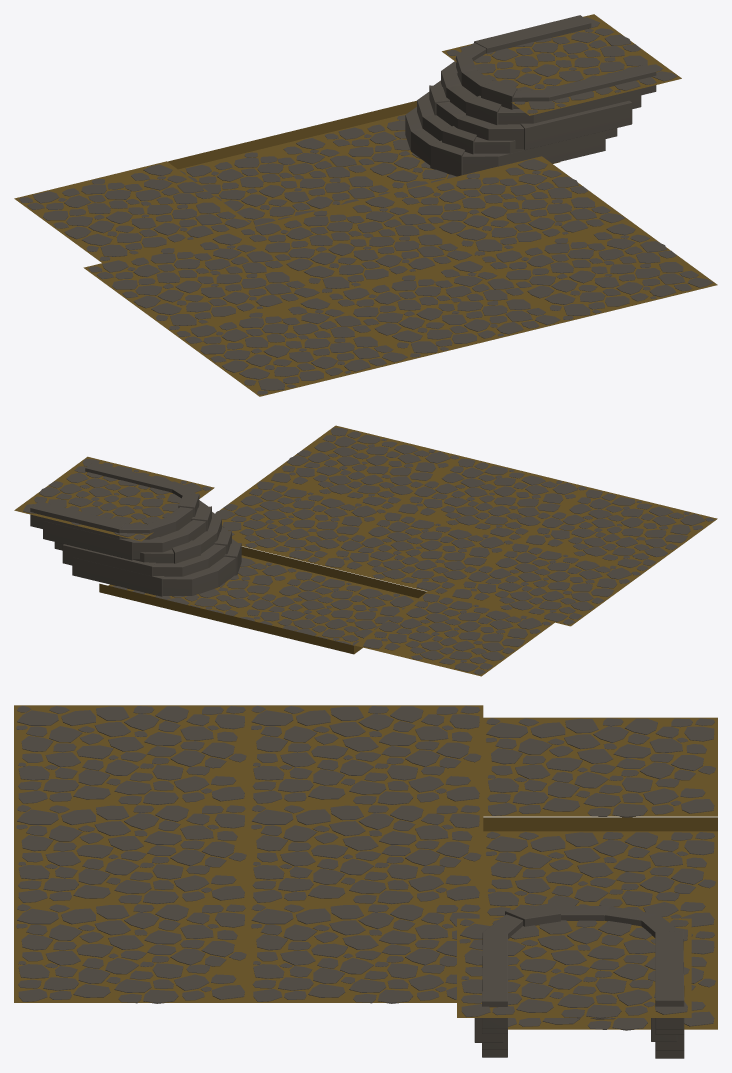
File: floormodel.fbx
The picture shows the model from 3 angles, top to bottom: view 1: azimuth 30°, elevation 25°; view 2: azimuth 150°, elevation 25°; view 3: azimuth 270°, elevation 25°; orthographic projection. The views are drawn at different scales.
Parts seen in each view (by area): view 1: floormodel; view 2: floormodel; view 3: floormodel.
Part boxes in pixels (x1=…): floormodel: x1=14, y1=14, x2=717, y2=396; floormodel: x1=14, y1=425, x2=717, y2=676; floormodel: x1=14, y1=705, x2=717, y2=1058.
Size of the model in its own units: 61.84 by 7.09 by 48.04.
